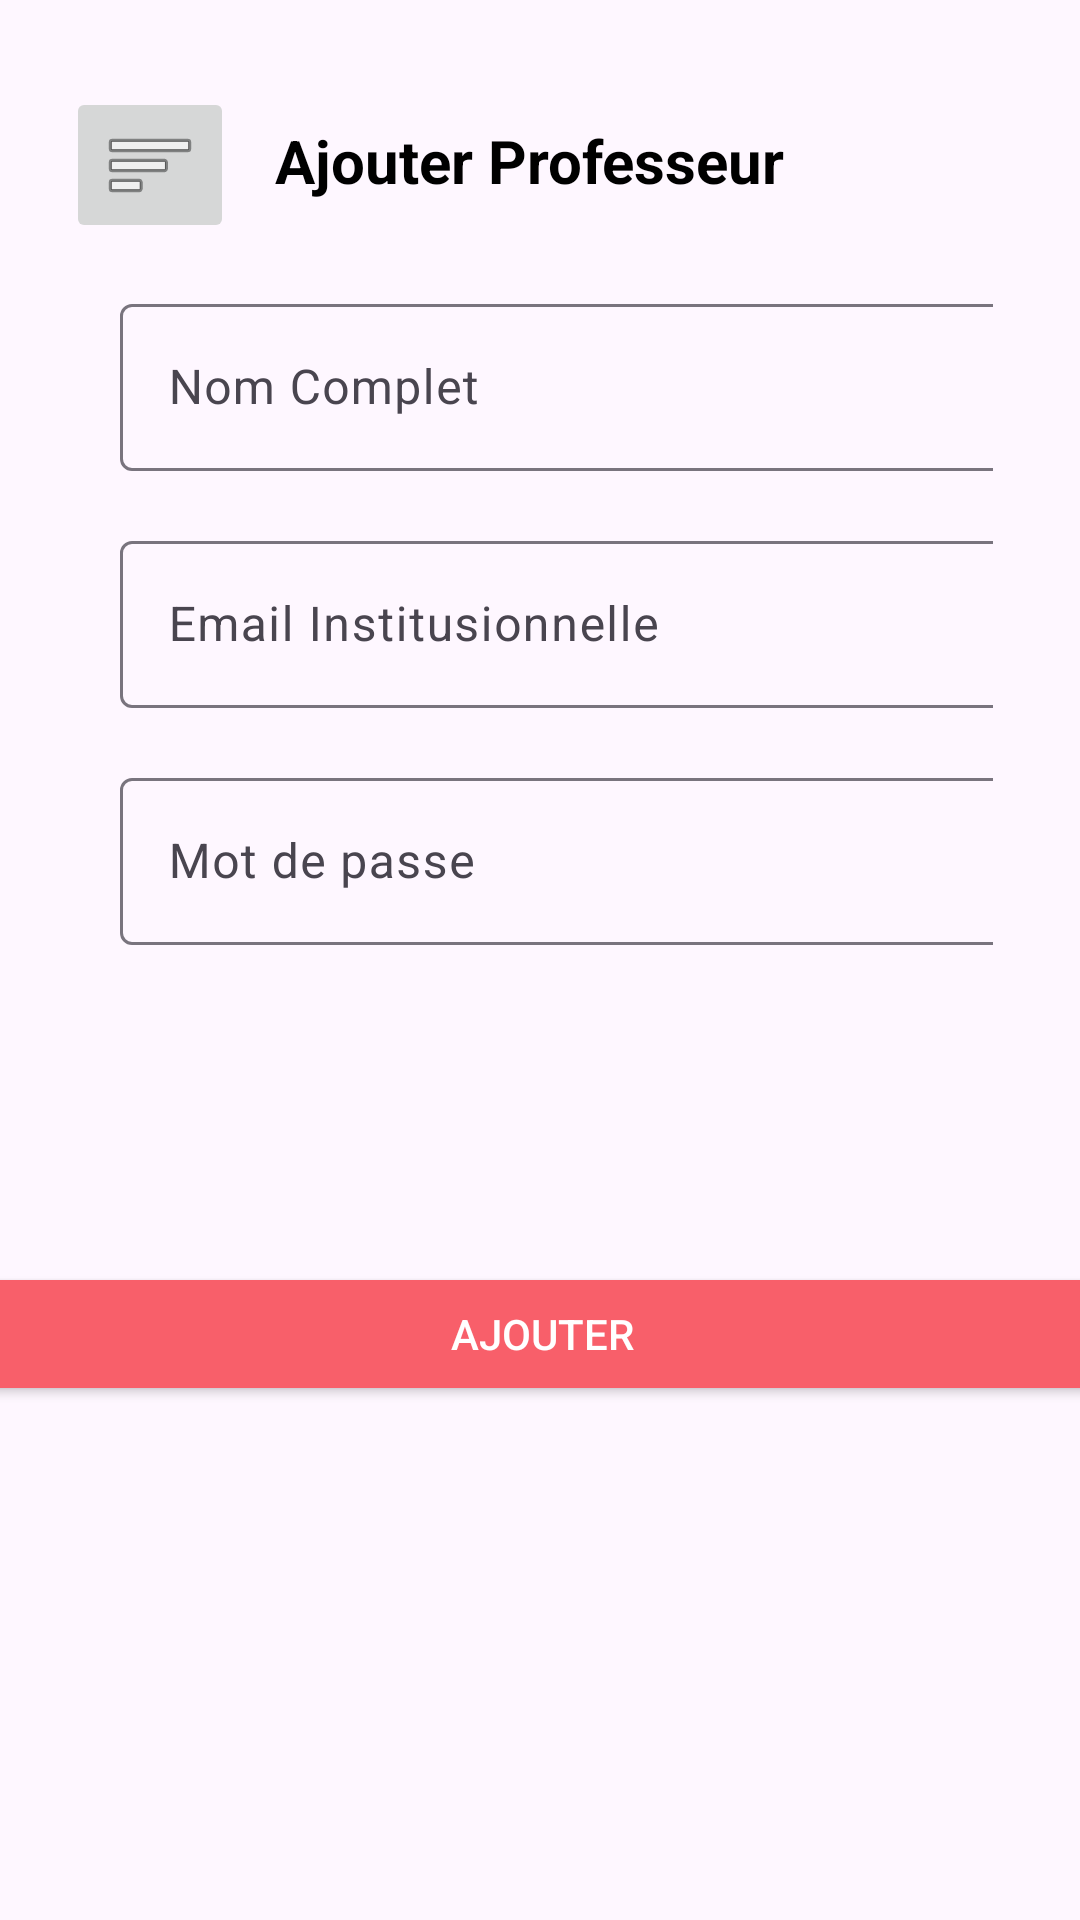

Named icons in this screenshot (1080 × 1920) and their bounding boxes, (x1, y1, x2, y2):
sort by size: (78, 105, 222, 225)
